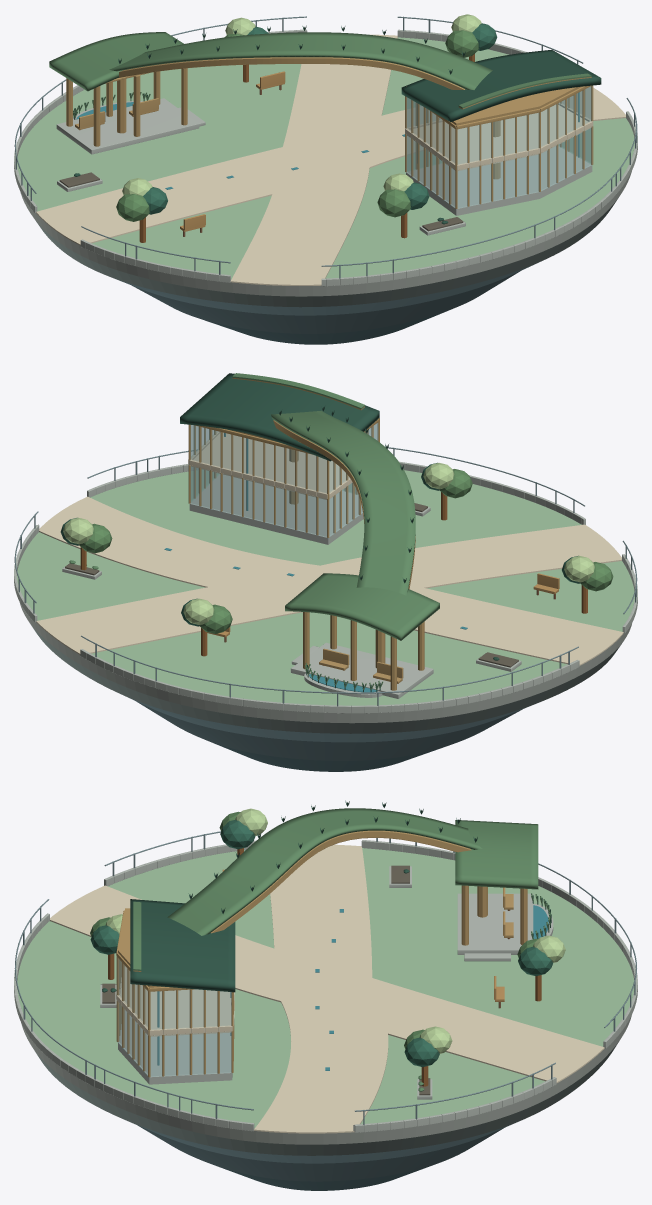
3 renders of one model, top to bottom at view 1: azimuth 30°, elevation 25°; view 2: azimuth 150°, elevation 25°; view 3: azimuth 270°, elevation 25°, orthographic. The views are drawn at different scales.
Parts seen in each view (by area): view 1: ROLE_terrain_Components__grass, ROLE_paving_Components__paveLight, ROLE_building_Components__mistglass, ROLE_roof_Components__ecoLeaf, ROLE_building_Components__ecoWood, ROLE_building_Components__stone2, ROLE_terrain_Components__stone2, ROLE_rails_Components__stone2, ROLE_roof_Components__ecoDeep, ROLE_terrain_Components__cliff3, ROLE_building_Components__paveLight, ROLE_terrain_Components__cliff2 (+13 smaller); view 2: ROLE_terrain_Components__grass, ROLE_paving_Components__paveLight, ROLE_roof_Components__ecoLeaf, ROLE_building_Components__mistglass, ROLE_building_Components__stone2, ROLE_rails_Components__stone2, ROLE_building_Components__ecoWood, ROLE_roof_Components__ecoDeep, ROLE_terrain_Components__stone2, ROLE_terrain_Components__cliff3, ROLE_terrain_Components__cliff2, ROLE_building_Components__paveLight (+11 smaller); view 3: ROLE_terrain_Components__grass, ROLE_paving_Components__paveLight, ROLE_roof_Components__ecoLeaf, ROLE_rails_Components__stone2, ROLE_building_Components__stone2, ROLE_building_Components__mistglass, ROLE_roof_Components__ecoDeep, ROLE_building_Components__ecoWood, ROLE_terrain_Components__stone2, ROLE_terrain_Components__cliff3, ROLE_terrain_Components__cliff2, ROLE_building_Components__paveLight (+12 smaller).
Part boxes in pixels (x1,y1,x2,y2): ROLE_terrain_Components__grass: (17, 37, 634, 279); ROLE_paving_Components__paveLight: (36, 34, 625, 285); ROLE_building_Components__mistglass: (406, 86, 592, 208); ROLE_roof_Components__ecoLeaf: (49, 32, 492, 91); ROLE_building_Components__ecoWood: (66, 57, 593, 208); ROLE_building_Components__stone2: (56, 98, 592, 215); ROLE_terrain_Components__stone2: (20, 171, 631, 296); ROLE_rails_Components__stone2: (14, 29, 637, 286); ROLE_roof_Components__ecoDeep: (401, 50, 601, 122); ROLE_terrain_Components__cliff3: (35, 199, 617, 307); ROLE_building_Components__paveLight: (405, 102, 593, 171); ROLE_terrain_Components__cliff2: (132, 271, 519, 333); ROLE_terrain_Components__grass: (17, 470, 634, 705); ROLE_paving_Components__paveLight: (36, 496, 623, 665); ROLE_roof_Components__ecoLeaf: (271, 410, 439, 640); ROLE_building_Components__mistglass: (190, 422, 378, 537); ROLE_building_Components__stone2: (189, 474, 433, 698); ROLE_rails_Components__stone2: (14, 461, 637, 713); ROLE_building_Components__ecoWood: (188, 418, 424, 690); ROLE_roof_Components__ecoDeep: (180, 373, 379, 461); ROLE_terrain_Components__stone2: (19, 602, 631, 723); ROLE_terrain_Components__cliff3: (30, 624, 621, 733); ROLE_terrain_Components__cliff2: (136, 701, 522, 760); ROLE_building_Components__paveLight: (188, 431, 352, 499); ROLE_terrain_Components__grass: (17, 848, 634, 1128); ROLE_paving_Components__paveLight: (50, 844, 604, 1133); ROLE_roof_Components__ecoLeaf: (167, 808, 538, 935); ROLE_rails_Components__stone2: (14, 840, 637, 1132); ROLE_building_Components__stone2: (118, 893, 533, 1084); ROLE_building_Components__mistglass: (117, 958, 231, 1076); ROLE_roof_Components__ecoDeep: (130, 899, 235, 992); ROLE_building_Components__ecoWood: (116, 830, 527, 1077); ROLE_terrain_Components__stone2: (21, 1015, 631, 1144); ROLE_terrain_Components__cliff3: (34, 1042, 618, 1155); ROLE_terrain_Components__cliff2: (138, 1125, 503, 1181); ROLE_building_Components__paveLight: (116, 966, 234, 1036).
Bounding box in the file's own units: 33.65 × 16.28 × 30.81.
